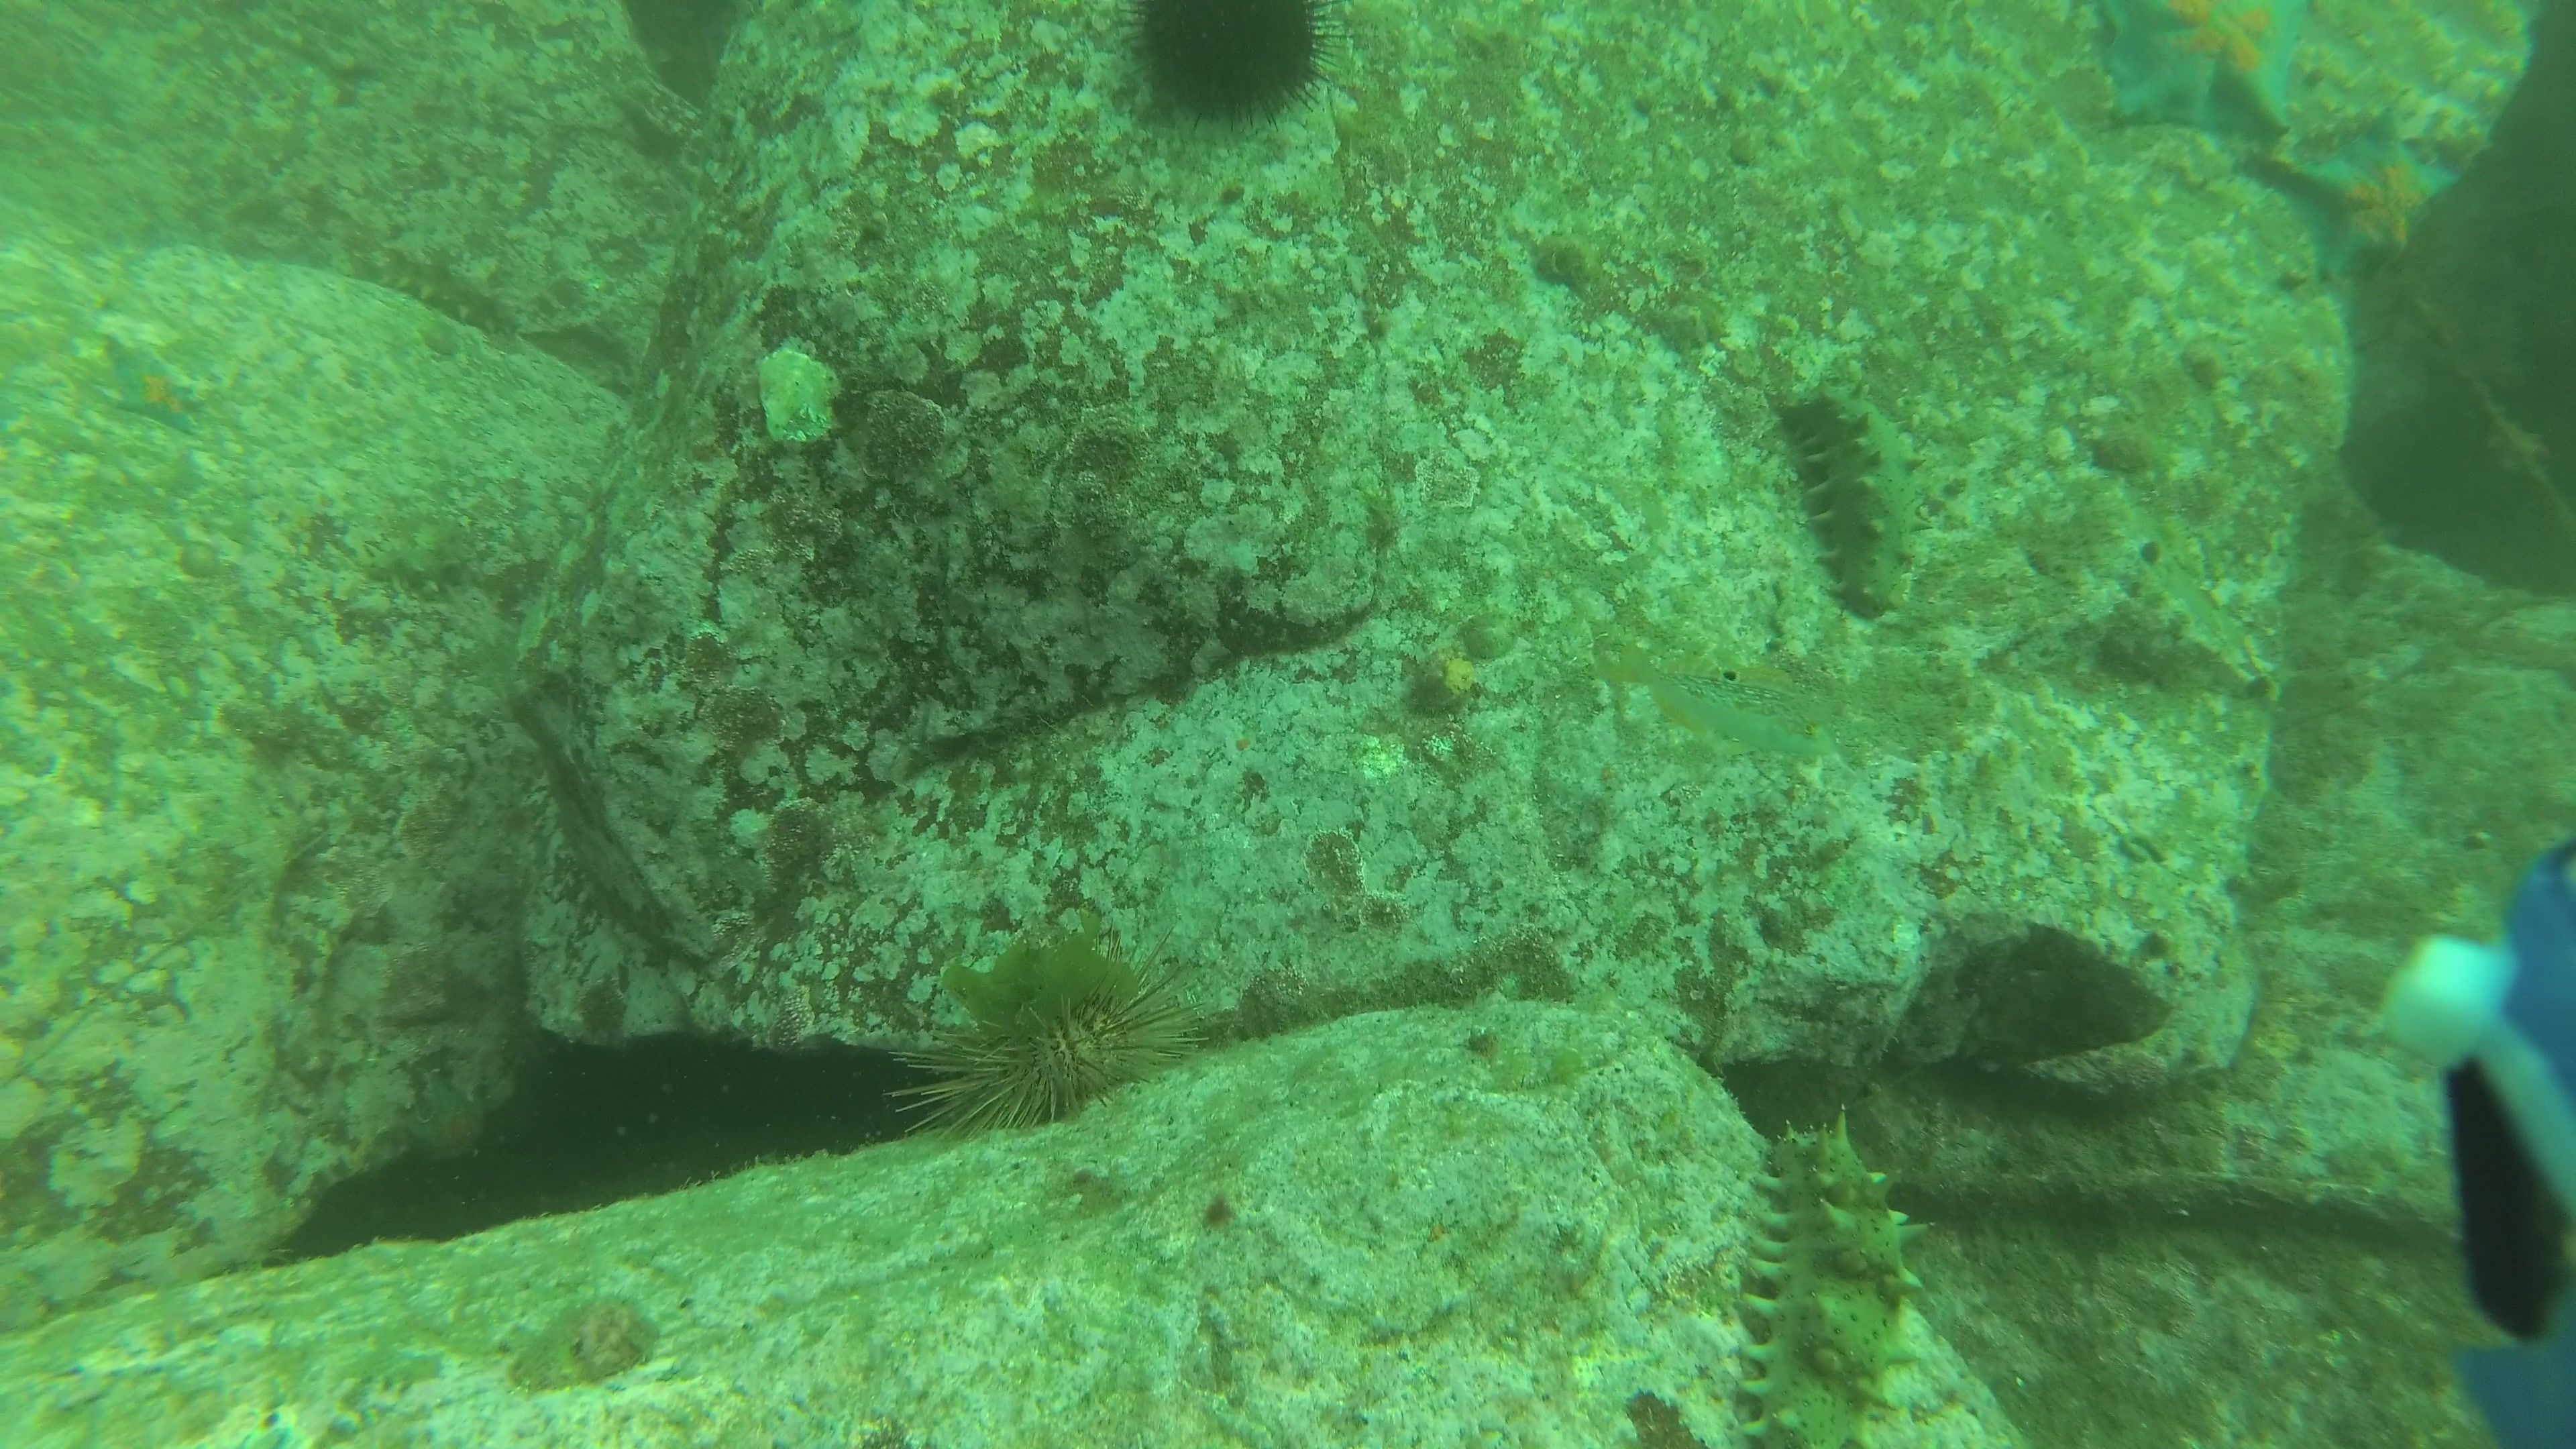echinus: (888, 922, 1212, 1146), (1111, 5, 1359, 142)
holothurian: (1734, 1104, 1932, 1449), (1775, 377, 1932, 623)
starfish: (2272, 97, 2463, 285), (2089, 0, 2314, 147), (94, 334, 209, 426)
